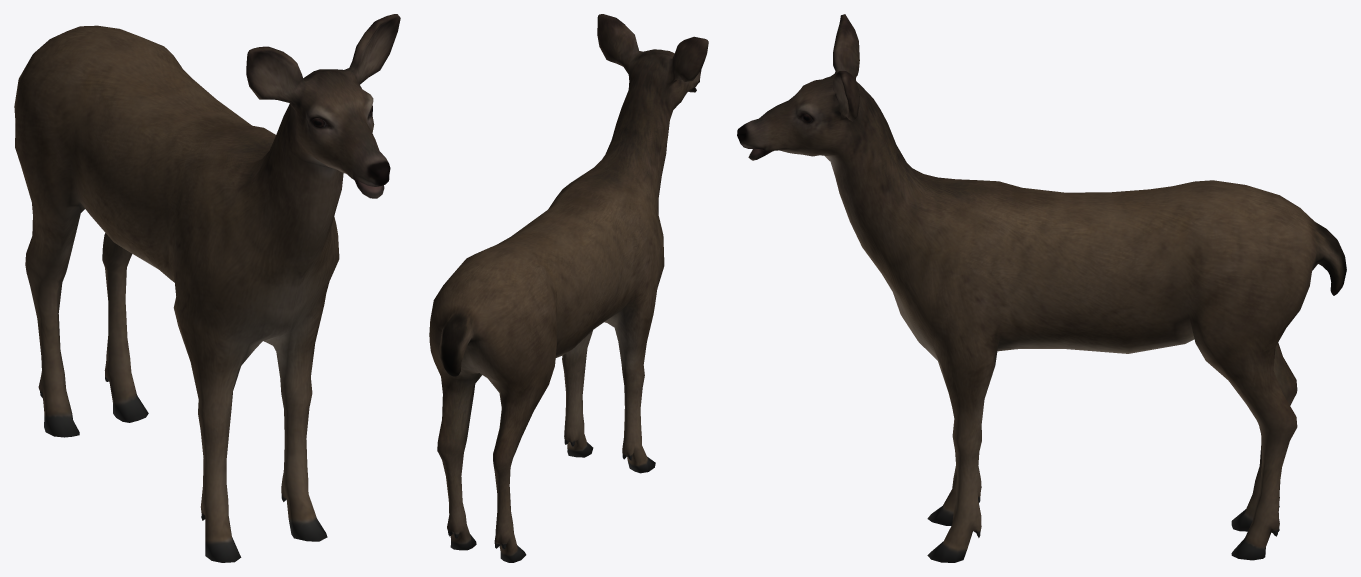
File: deerEdit_v1.fbx
3 renders of one model, left to right at view 1: azimuth 30°, elevation 25°; view 2: azimuth 150°, elevation 25°; view 3: azimuth 270°, elevation 25°, orthographic. The views are drawn at different scales.
Parts seen in each view (by area): view 1: Deer_female_rig.mo; view 2: Deer_female_rig.mo; view 3: Deer_female_rig.mo.
Part boxes in pixels (<box>): Deer_female_rig.mo: <box>14,14,400,562</box>; Deer_female_rig.mo: <box>429,14,708,562</box>; Deer_female_rig.mo: <box>737,14,1346,562</box>.
Size of the model in its own units: 43.81 by 154 by 171.
